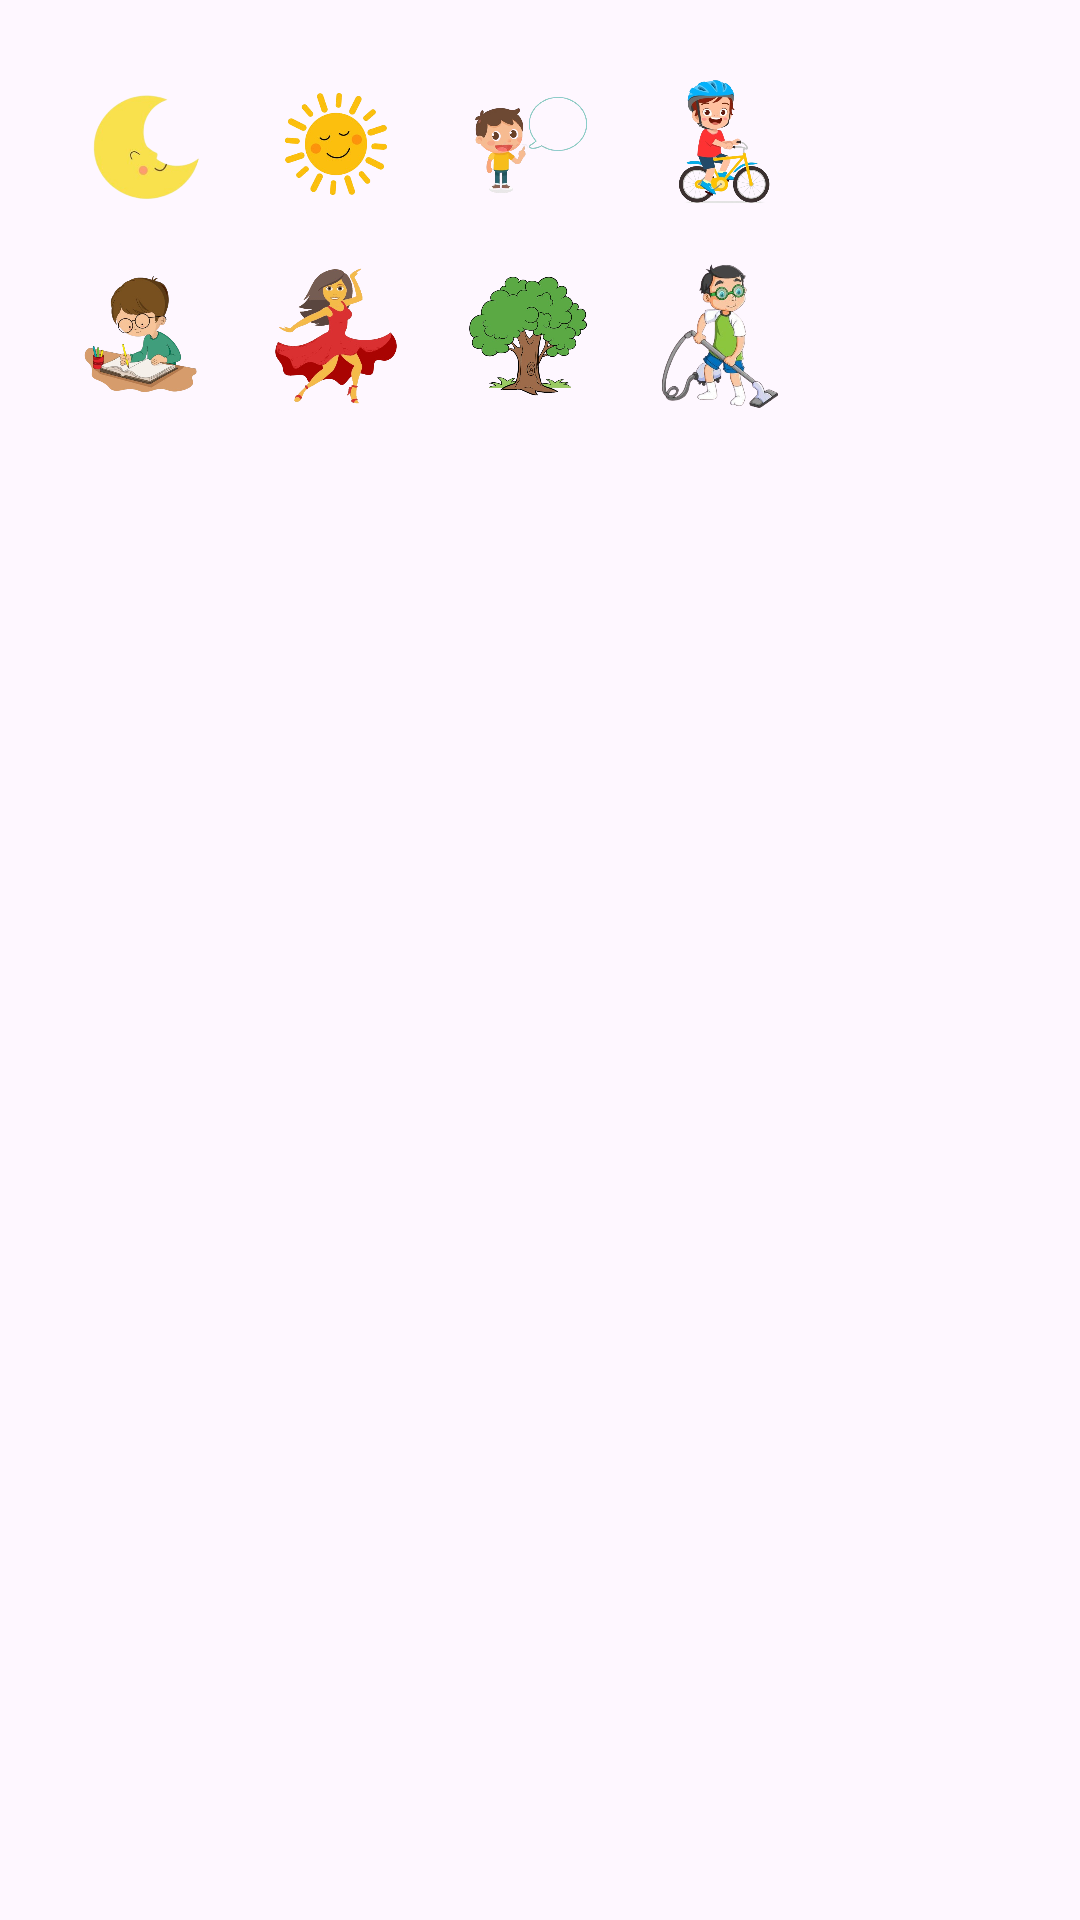

Icons on this 1080w x 1920h Android screen, each with its box as [x1,y1,x2,y2]:
clean: [662,264,778,408]
cycling: [679,80,770,203]
dance: [275,268,397,404]
moon: [94,95,199,199]
sun: [285,93,387,195]
talk: [475,97,587,193]
tree: [469,277,587,396]
write: [85,276,197,392]
